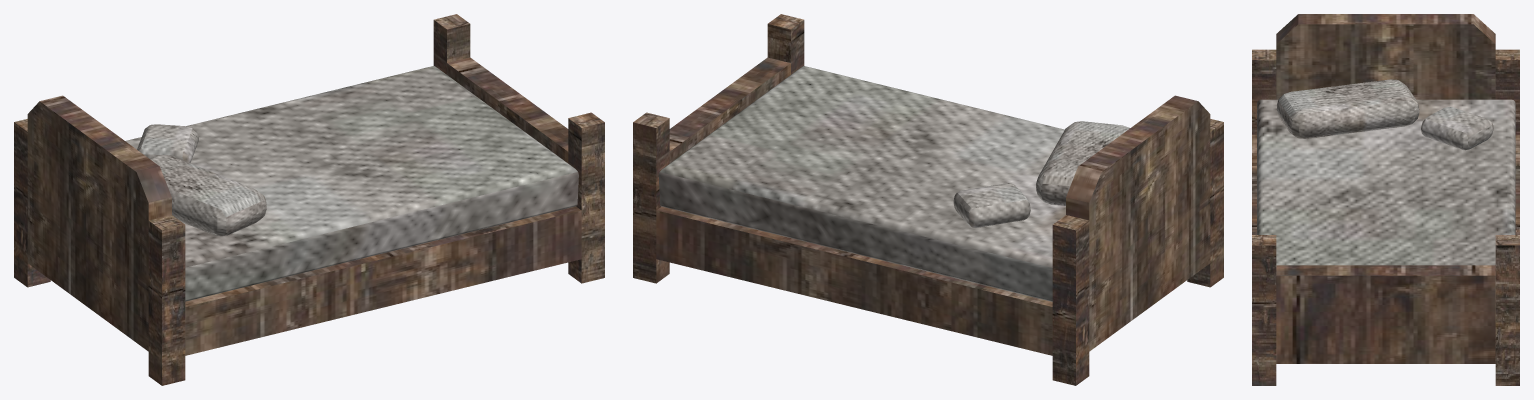
Rendered from PSX Bed(N).fbx.
3 renders of one model, left to right at view 1: azimuth 30°, elevation 25°; view 2: azimuth 150°, elevation 25°; view 3: azimuth 270°, elevation 25°, orthographic. The views are drawn at different scales.
Visible parts, largest first — view 1: Yatak, Yatak_Başlığı, Sütunlar, Büyük_yastık, Küçük_Yastık; view 2: Yatak, Yatak_Başlığı, Sütunlar, Büyük_yastık, Küçük_Yastık; view 3: Yatak_Başlığı, Yatak, Sütunlar, Büyük_yastık, Küçük_Yastık.
Part boxes in pixels (<box>): Yatak: <box>125,66,578,301</box>; Yatak_Başlığı: <box>27,57,581,355</box>; Sütunlar: <box>14,14,604,385</box>; Büyük_yastık: <box>150,155,266,236</box>; Küçük_Yastık: <box>137,124,198,162</box>; Yatak: <box>658,66,1065,301</box>; Yatak_Başlığı: <box>656,57,1210,355</box>; Sütunlar: <box>633,14,1223,385</box>; Büyük_yastık: <box>1036,121,1129,205</box>; Küçük_Yastık: <box>953,183,1030,227</box>; Yatak_Başlığı: <box>1252,14,1519,363</box>; Yatak: <box>1257,99,1515,265</box>; Sütunlar: <box>1252,49,1519,385</box>; Büyük_yastık: <box>1277,79,1419,138</box>; Küçük_Yastık: <box>1421,106,1493,150</box>.
Bounding box in the file's own units: 19 × 8 × 11.
5 materials, 5 textured.
